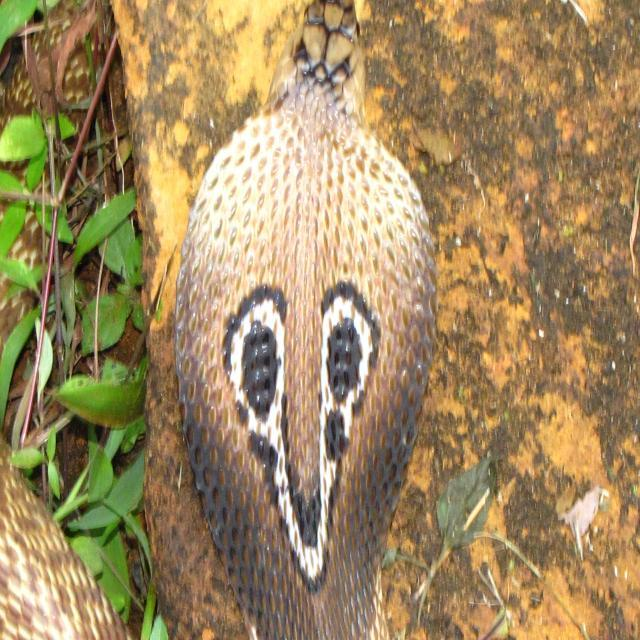Snake: (171, 0, 444, 638)
